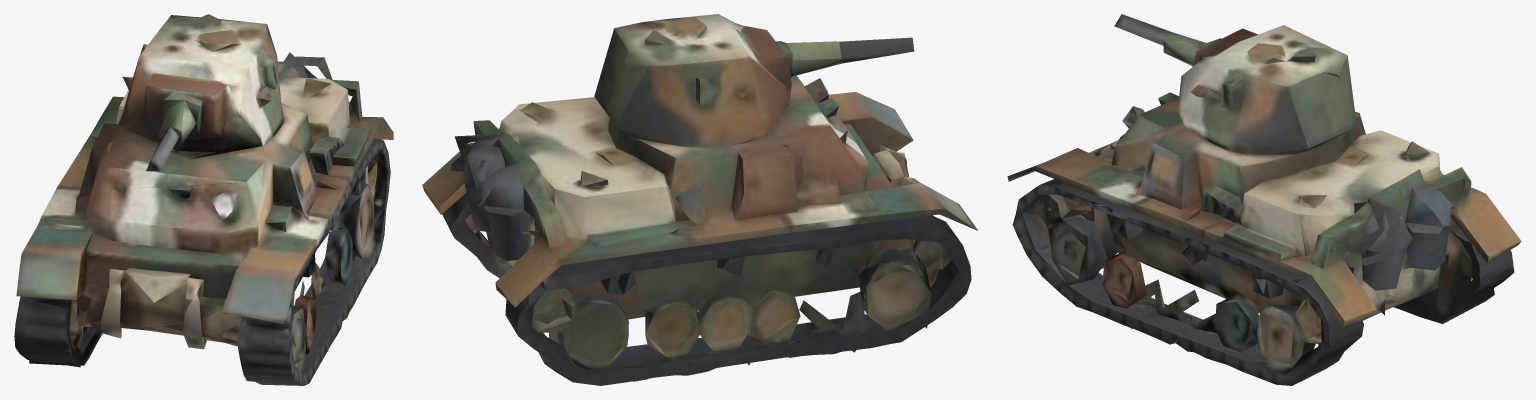
Rendered from tank.glb.
3 views of the same model, side by side, from view 1: azimuth 30°, elevation 25°; view 2: azimuth 150°, elevation 25°; view 3: azimuth 270°, elevation 25° (orthographic). The views are drawn at different scales.
Visible parts, largest first — view 1: RETOPO; view 2: RETOPO; view 3: RETOPO.
Boxes of the visible parts, x1,y1,x2,y2 form: RETOPO: (14, 14, 393, 385); RETOPO: (422, 14, 978, 385); RETOPO: (1007, 14, 1521, 385).
Size of the model in its own units: 0.9123 by 0.5271 by 0.9247.
Materials: 1 (1 with a texture image).
